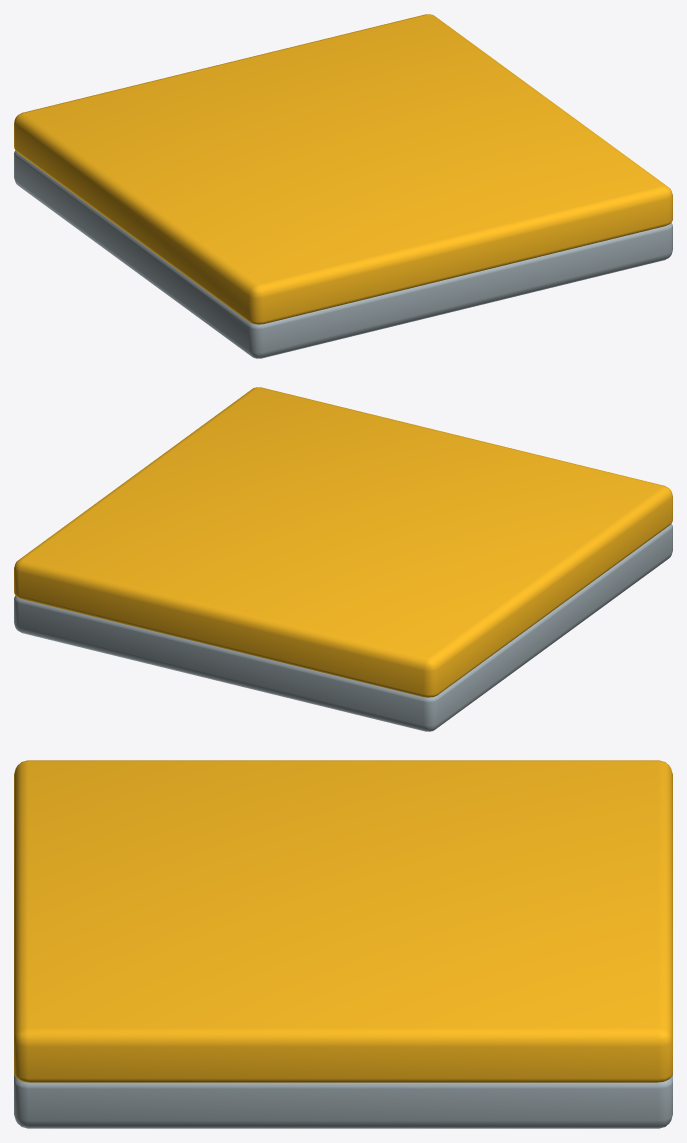
Rendered from tileLarge_teamYellow.glb.
The picture shows the model from 3 angles, top to bottom: view 1: azimuth 30°, elevation 25°; view 2: azimuth 150°, elevation 25°; view 3: azimuth 270°, elevation 25°; orthographic projection. The views are drawn at different scales.
Visible parts, largest first — view 1: tileLarge_teamYellow; view 2: tileLarge_teamYellow; view 3: tileLarge_teamYellow.
Part boxes in pixels (box(x1,y1,x2,y2)): tileLarge_teamYellow: box(14, 14, 672, 358); tileLarge_teamYellow: box(14, 387, 672, 731); tileLarge_teamYellow: box(14, 760, 672, 1128).
Size of the model in its own units: 1.78 by 0.296 by 1.78.
